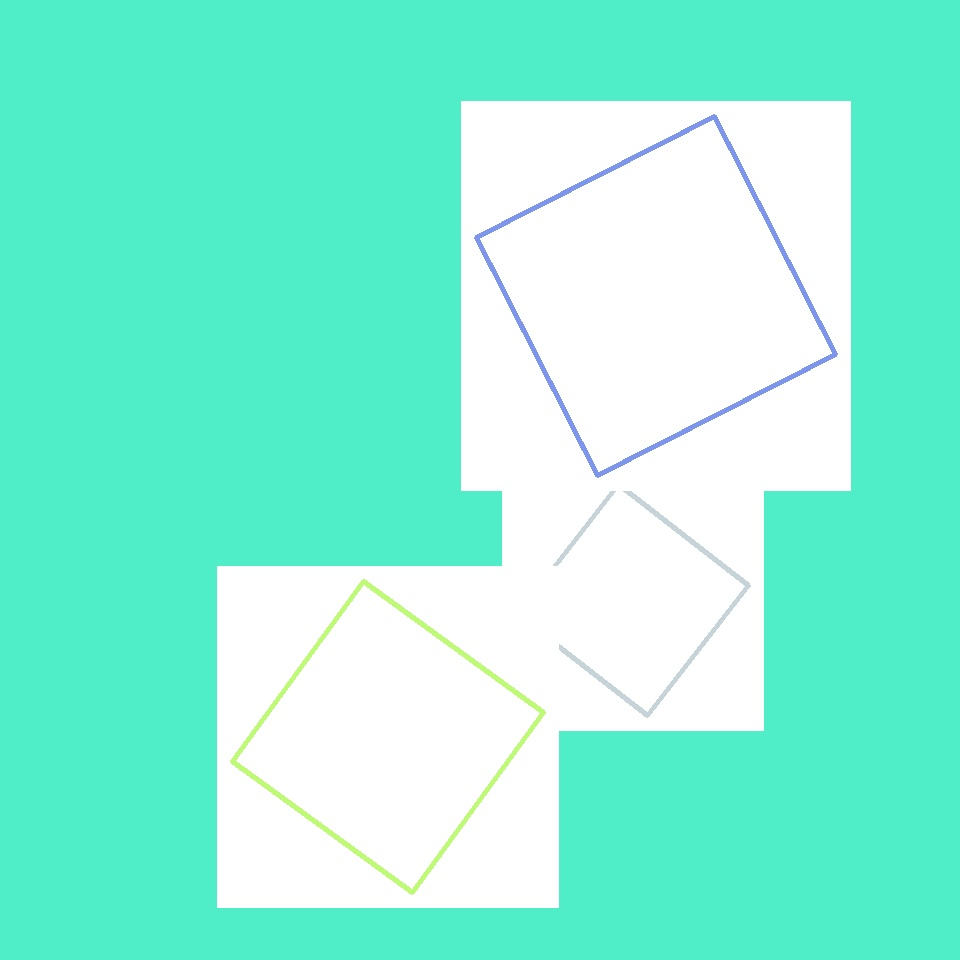circle: (418, 134, 518, 235)
square: (476, 117, 836, 476), (232, 582, 544, 892), (518, 484, 749, 716)
triangle: (339, 85, 584, 330), (566, 608, 760, 804), (580, 562, 684, 665)
